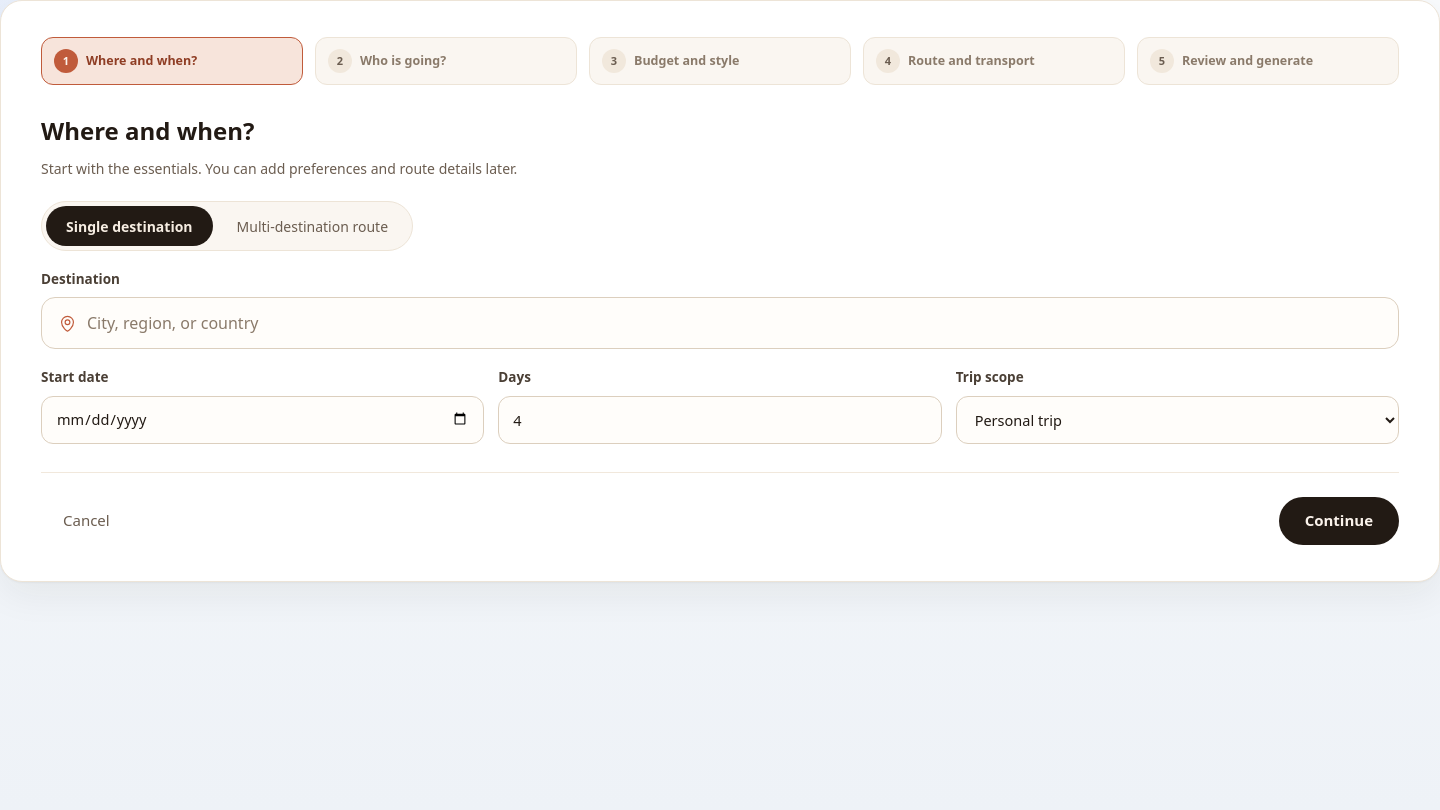
Scenario: CreateTripForm › keeps the user on the essentials step until required fields are valid
Step 1. Click the button "Continue" → (1339, 520), box [1279,496,1399,544]
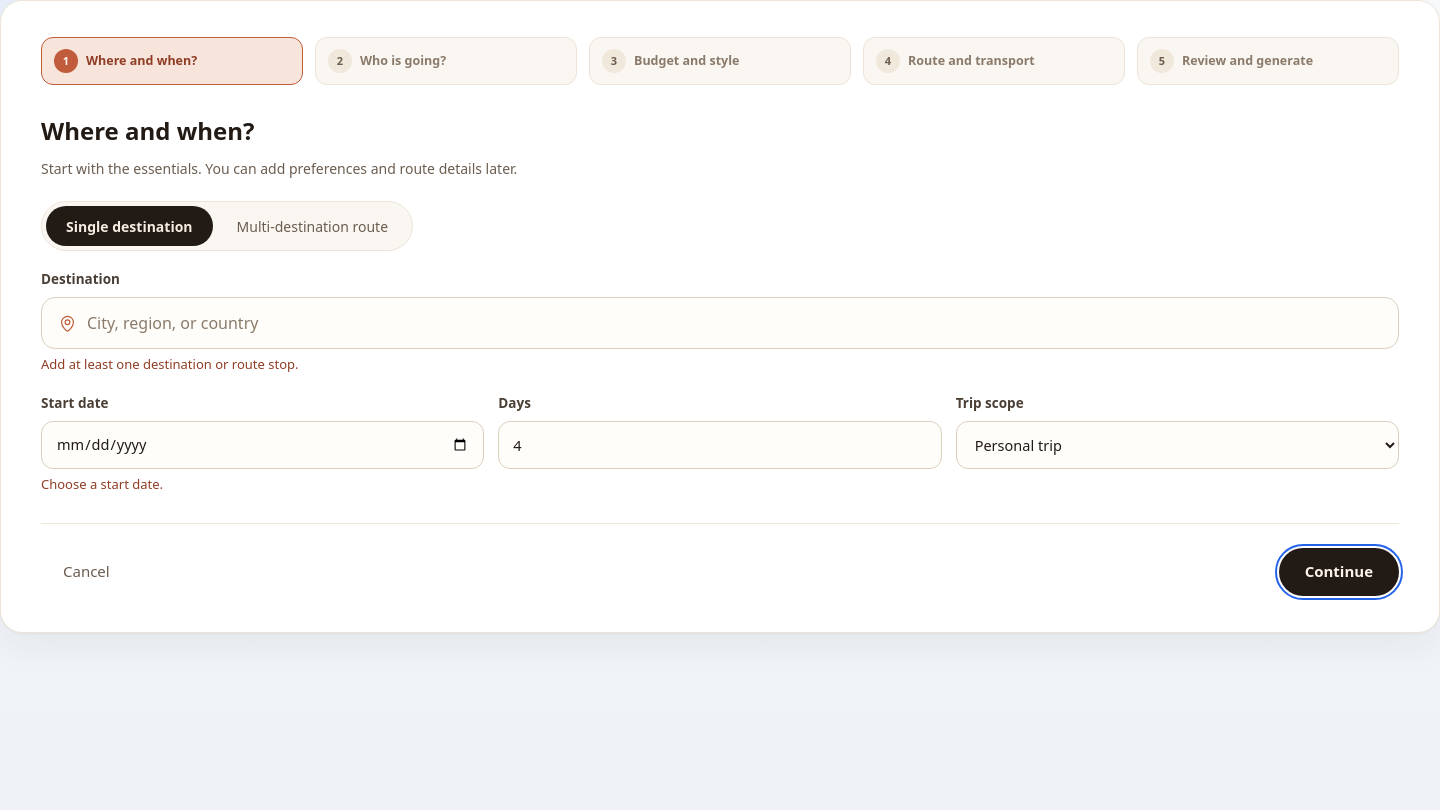
Expected: the heading "Where and when?" is shown, [41,114,254,147]
Expected: the text "Add at least one destination or route stop." is shown, [41,355,298,373]
Expected: the text "Choose a start date." is shown, [41,475,163,493]
Step 2. Type "Vienna" into the field with placeholder "City, region, or country" → (734, 323), box [87,311,1382,335]
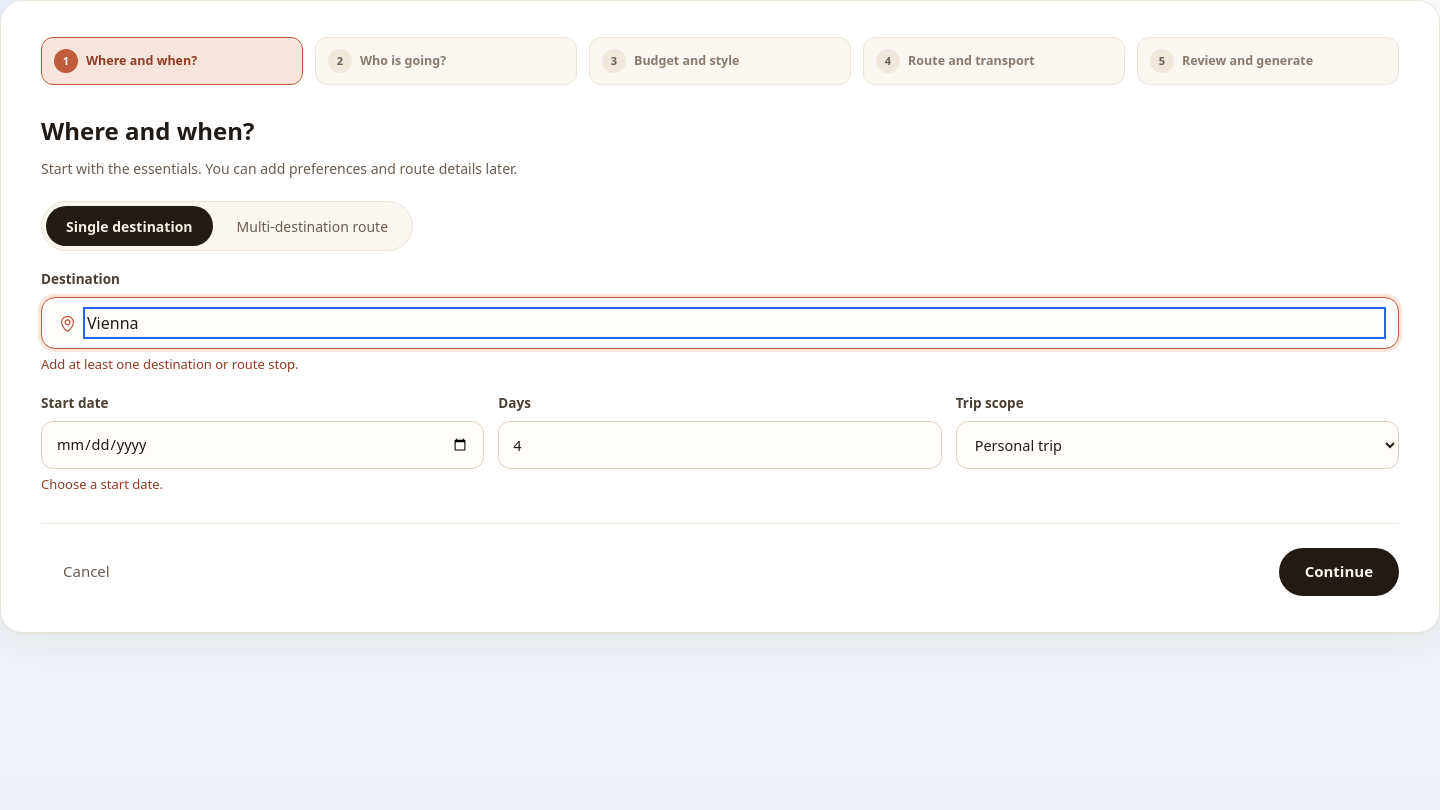
Step 3. Type "2026-04-10" into the date field with id "startDate" → (263, 445), box [41,421,484,469]
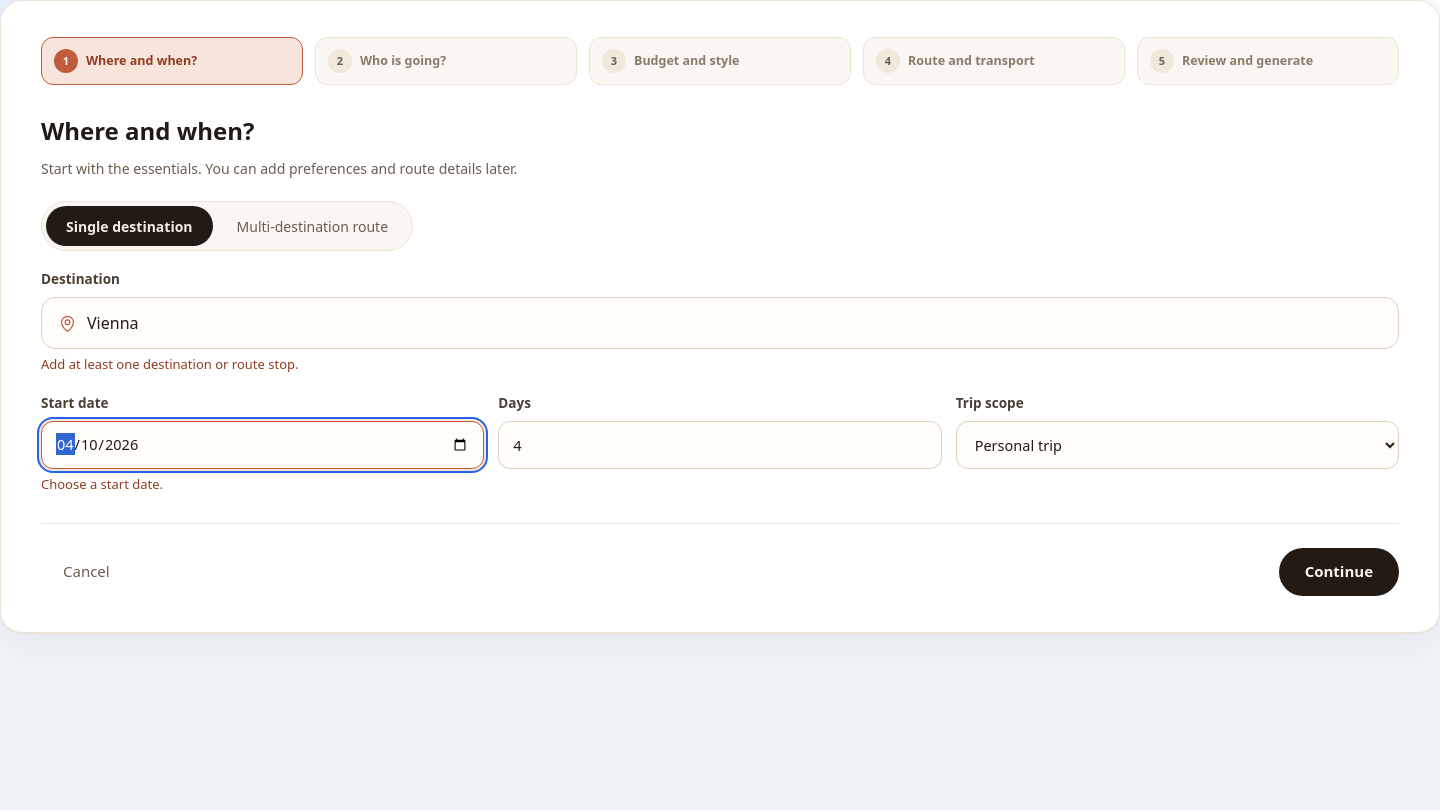
Step 4. Click the button "Continue" → (1339, 572), box [1279,548,1399,596]
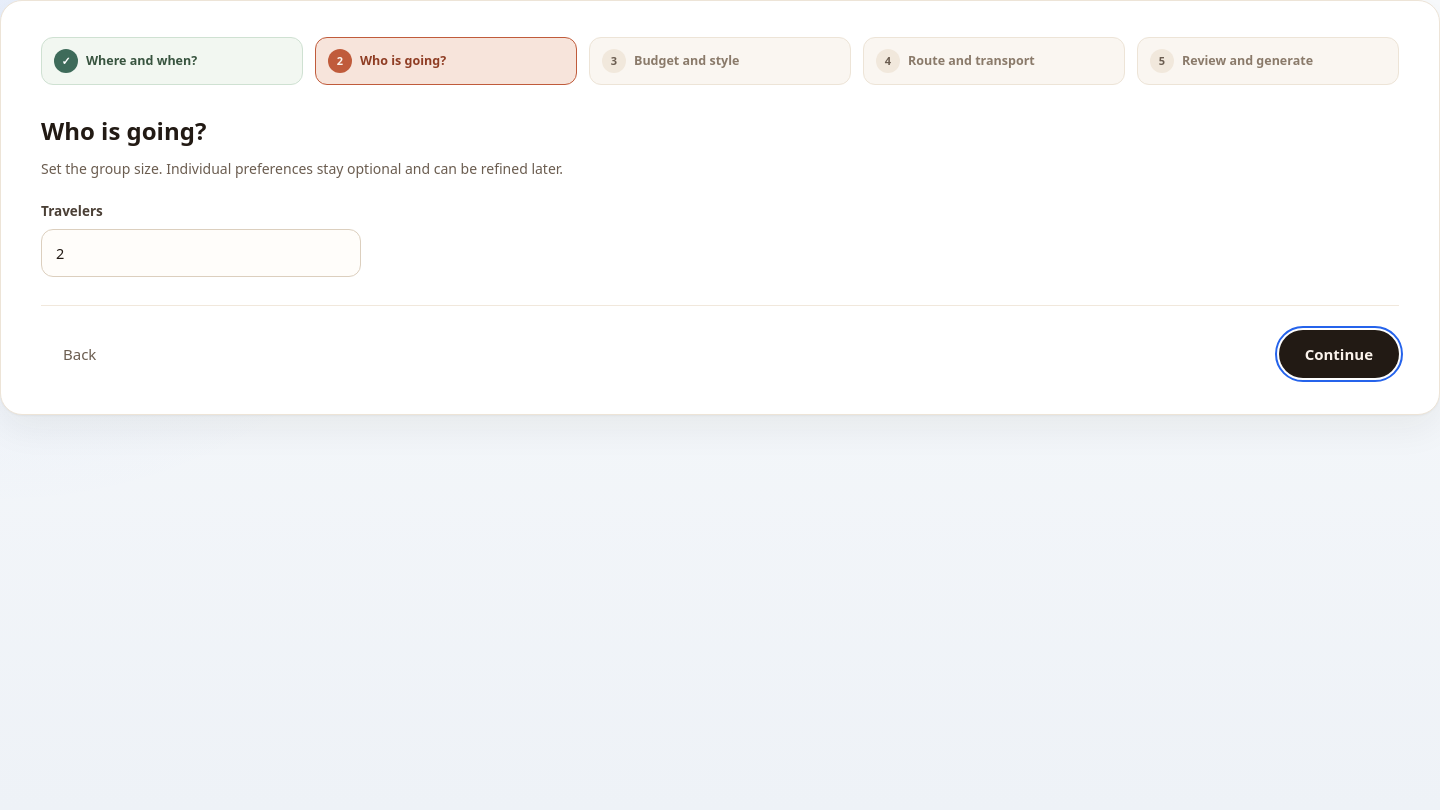
Expected: the heading "Who is going?" is shown, [41,114,206,147]
